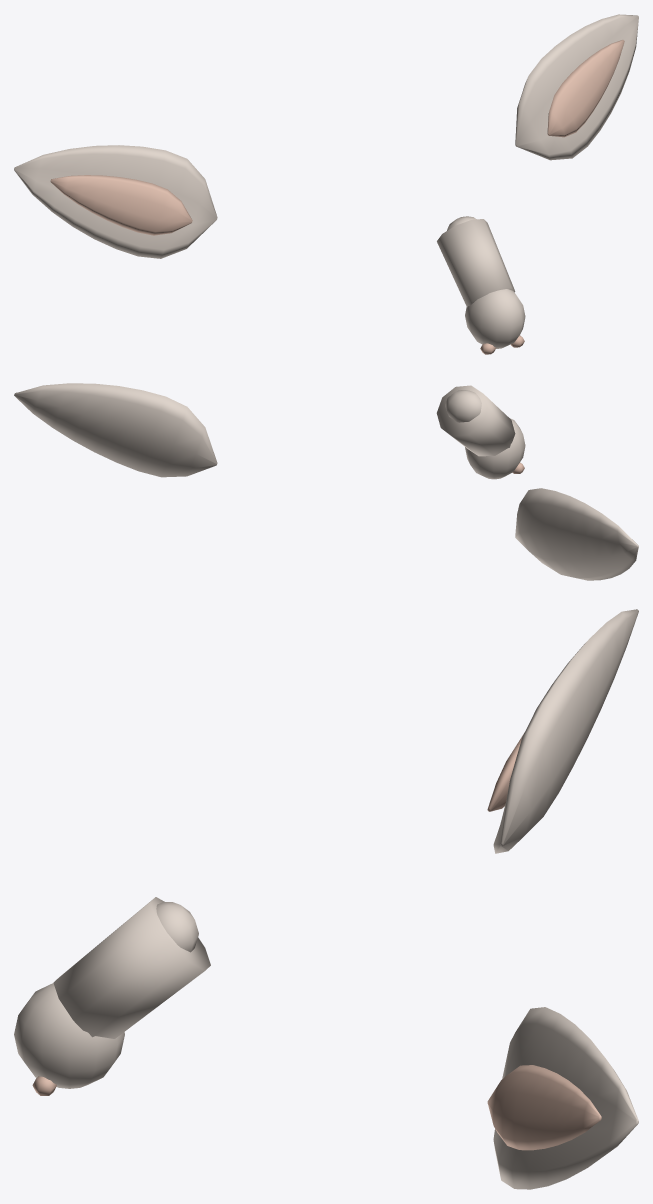
Rendered from race_troll_face.glb.
3 views of the same model, one above another, from view 1: azimuth 30°, elevation 25°; view 2: azimuth 150°, elevation 25°; view 3: azimuth 270°, elevation 25° (orthographic). The views are drawn at different scales.
Parts seen in each view (by area): view 1: race_troll_face; view 2: race_troll_face; view 3: race_troll_face.
Boxes of the visible parts, x1,y1,x2,y2 form: race_troll_face: [14, 14, 638, 354]; race_troll_face: [14, 383, 638, 580]; race_troll_face: [14, 609, 638, 1189].
Bounding box in the file's own units: 1.96 × 0.4404 × 1.01.
